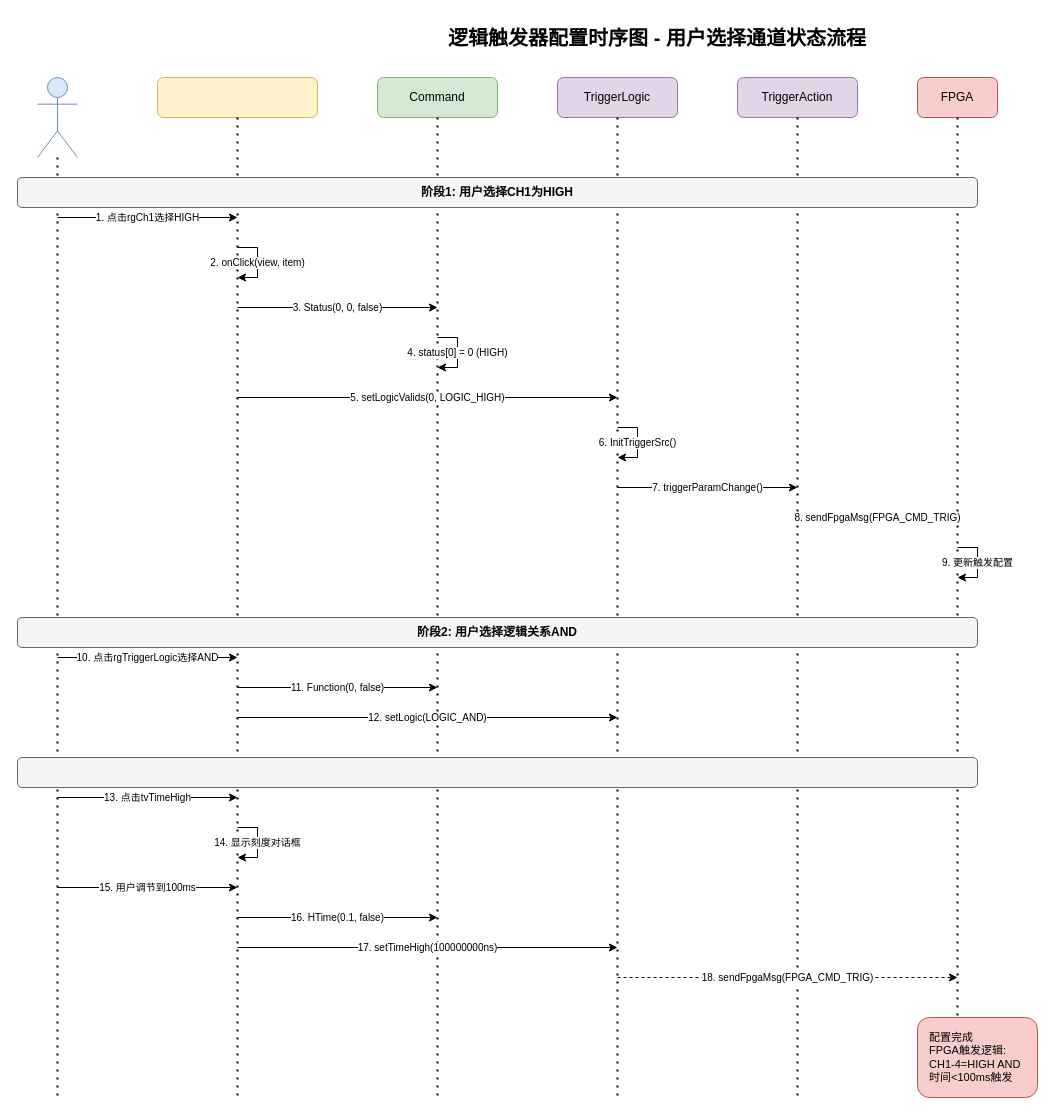
Some shapes in this 1055 by 1116 pixel diagram are drawn without their labels. Here are the shapes that lost their labels. From the top down, the centre of each, then its label:
At point 57,117: "用户".
At point 237,97: "TopLayoutTriggerLogic".
At point 497,772: "阶段3: 用户设置时间100ms".
